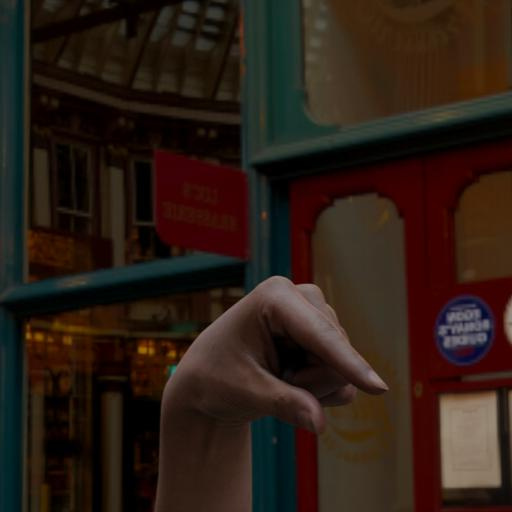Q: (158, 270, 392, 442)
